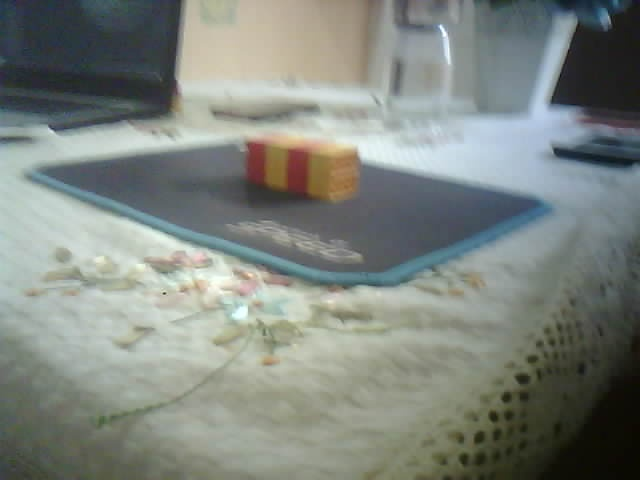lego: (245, 134, 362, 204)
